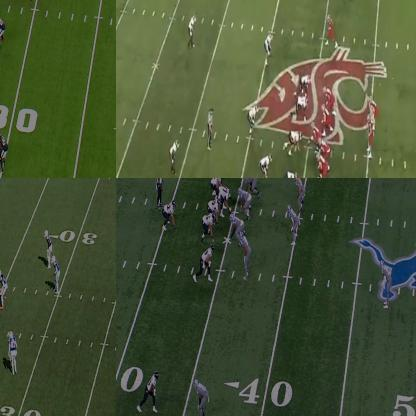CENTER: (307, 121, 320, 149), (220, 188, 233, 215)
DB: (379, 260, 394, 312), (192, 376, 208, 415), (10, 331, 18, 375), (0, 130, 7, 171), (44, 230, 52, 264), (169, 141, 177, 173), (51, 255, 58, 291), (265, 32, 272, 64), (191, 16, 196, 46), (0, 13, 4, 50)
LB: (286, 205, 298, 246), (240, 232, 250, 277), (293, 178, 305, 212), (247, 106, 259, 132), (0, 270, 8, 309), (258, 156, 270, 177)
QB: (367, 112, 376, 156), (155, 178, 163, 210)
SKILL: (141, 370, 161, 412), (200, 246, 216, 282), (326, 14, 336, 48), (164, 199, 175, 226), (370, 96, 379, 116)
